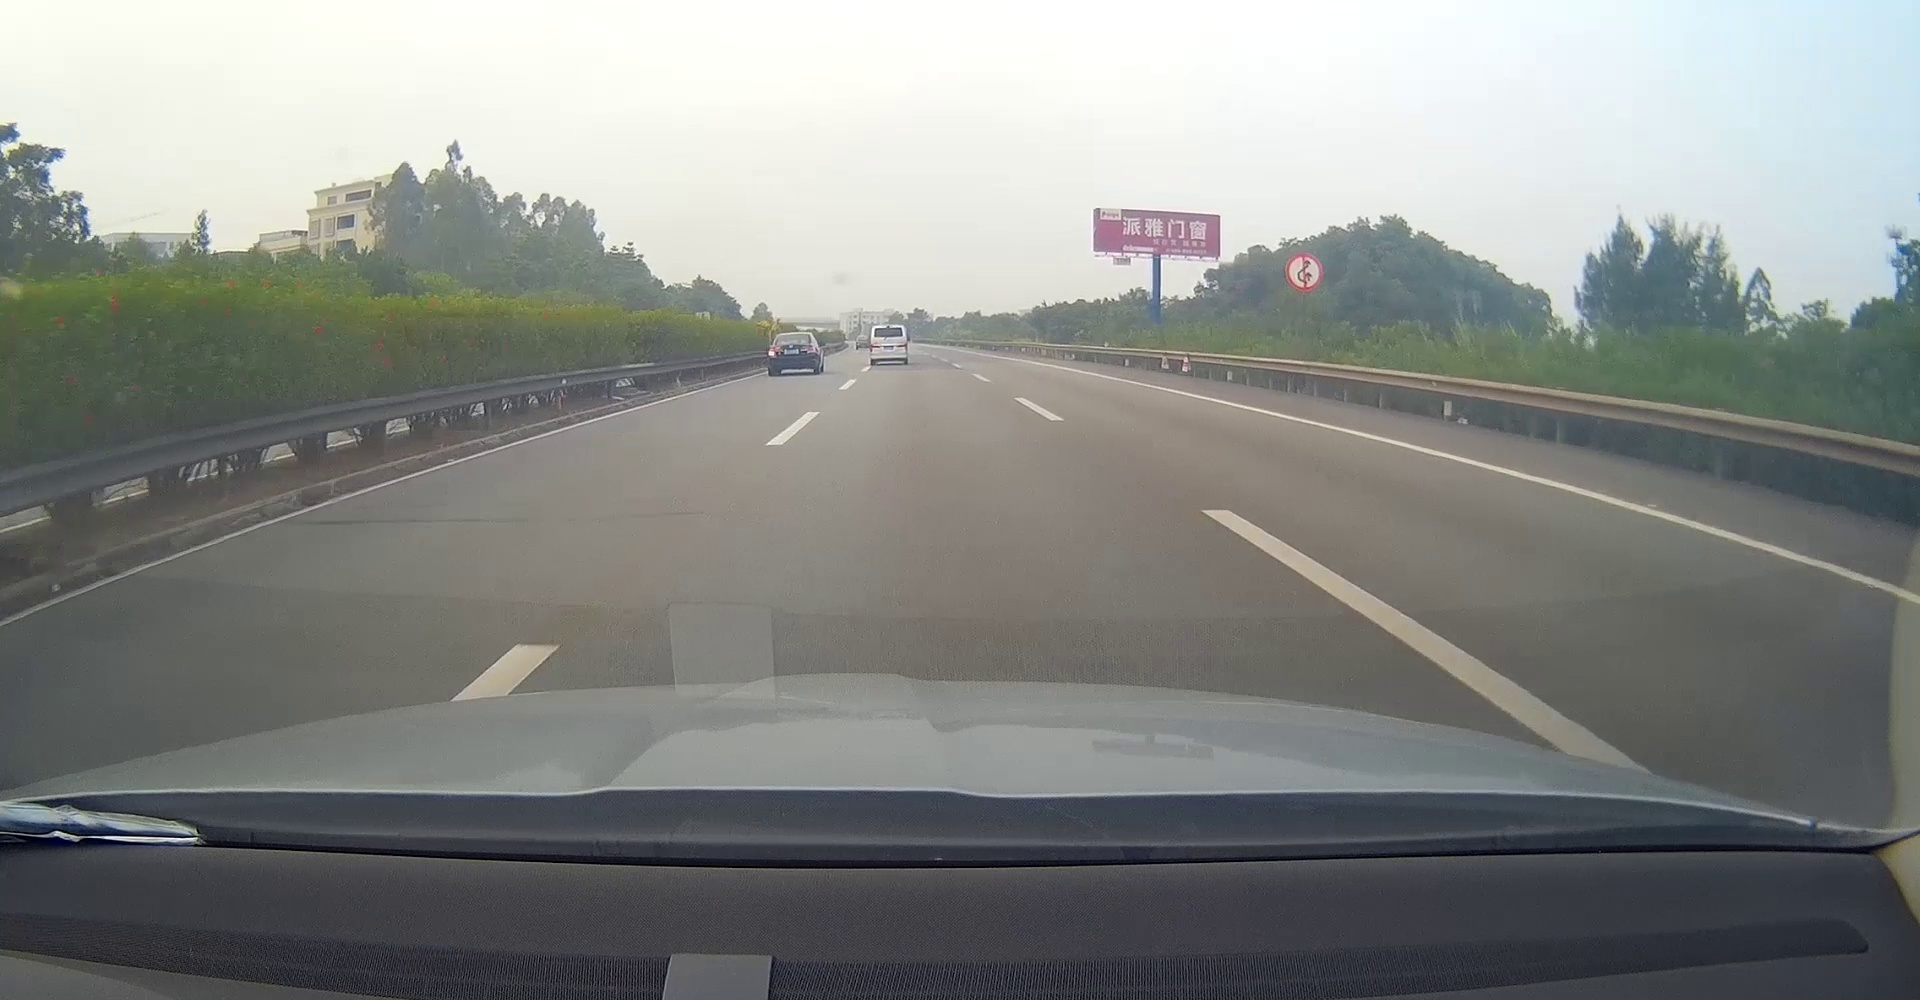L_light: (768, 346, 783, 355), (869, 345, 881, 352)
R_light: (800, 345, 815, 354), (897, 343, 908, 352)
T_light: (789, 332, 797, 336), (884, 327, 893, 329)
day-left: (767, 332, 820, 376)
day-no: (869, 325, 909, 365)
